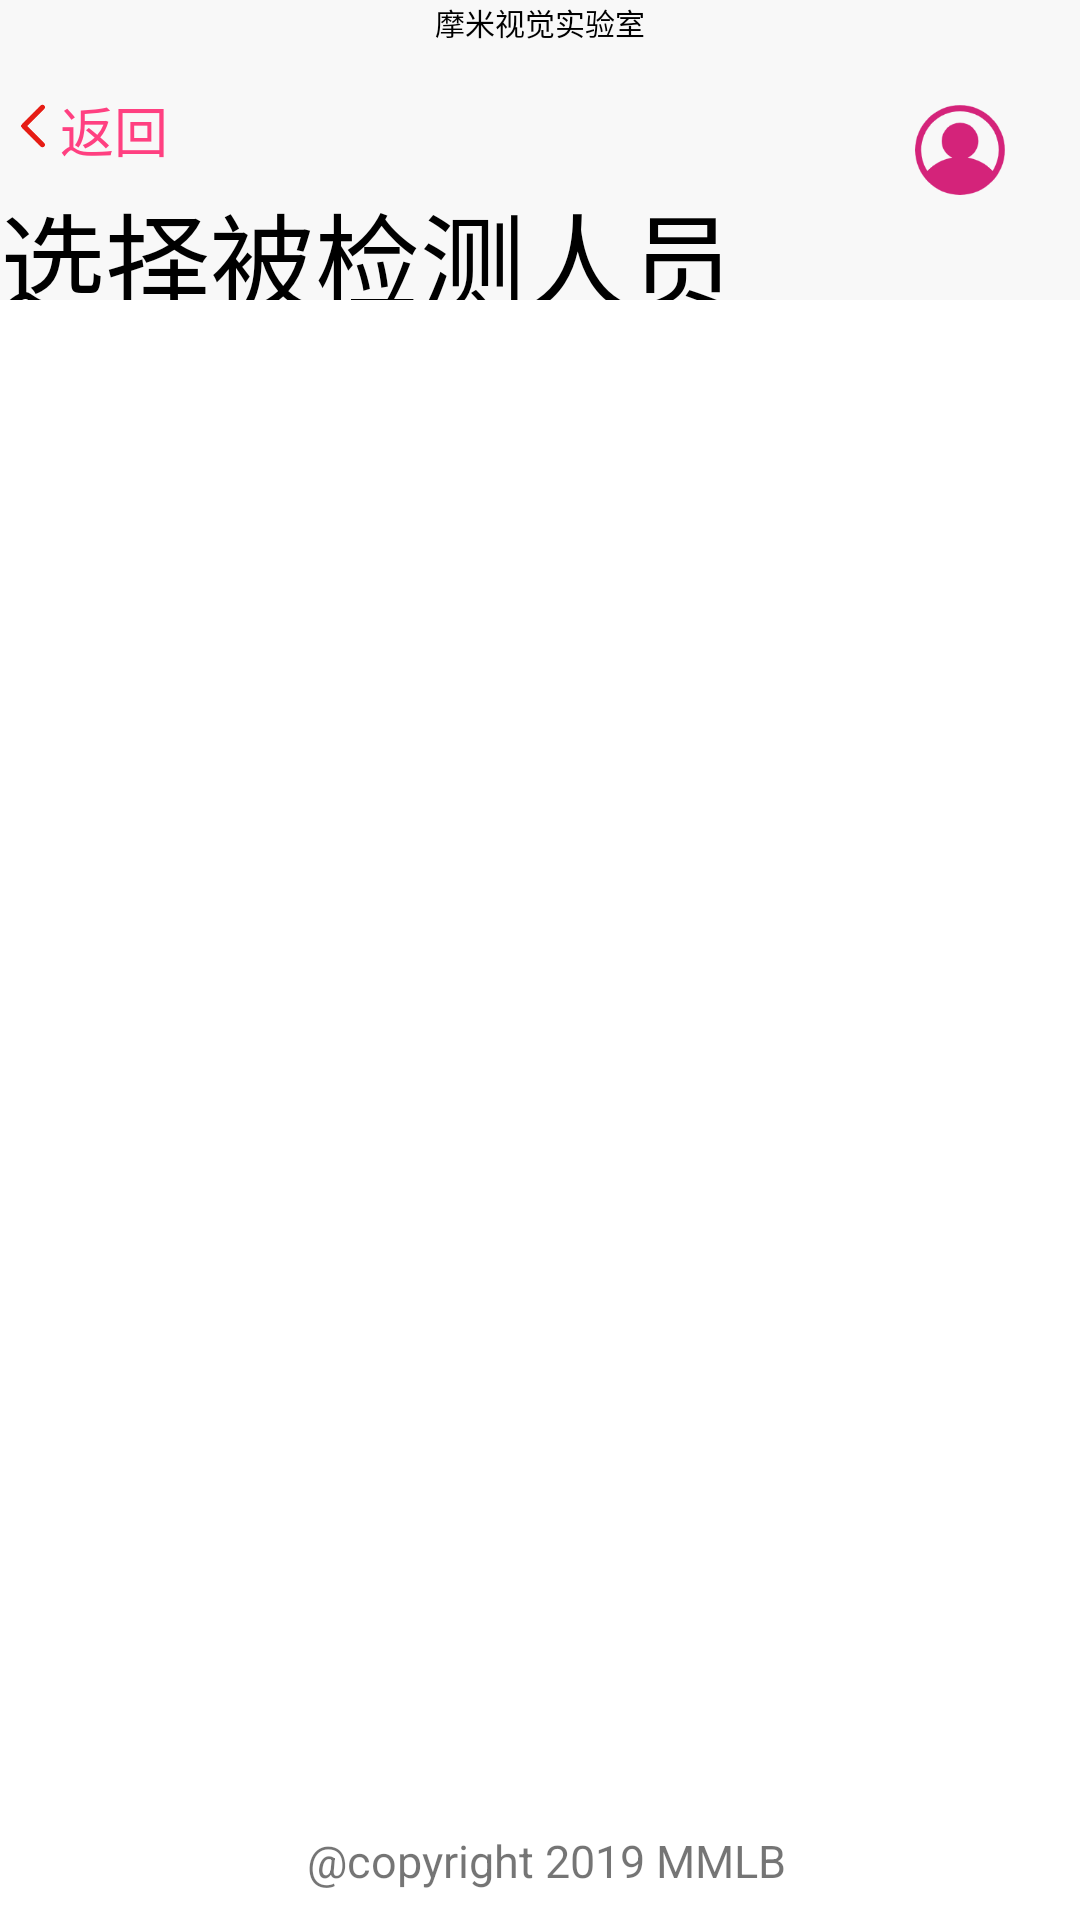

Named icons in this screenshot (1080px×1920px) and their bounding boxes, (x1, y1, x2, y2):
head: (915, 105, 1005, 195)
pointleft: (21, 104, 45, 148)
